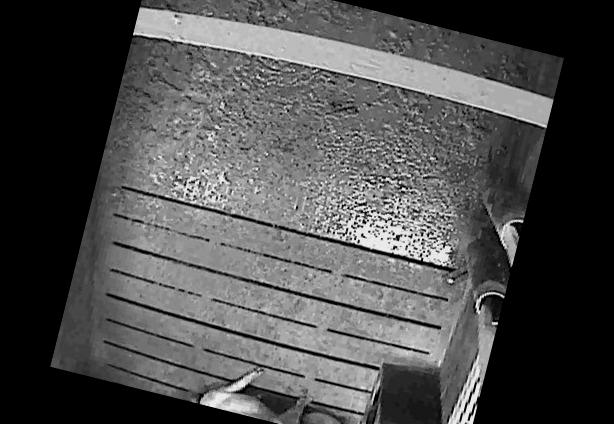Rear: (202, 389, 230, 410), (296, 405, 325, 424)
